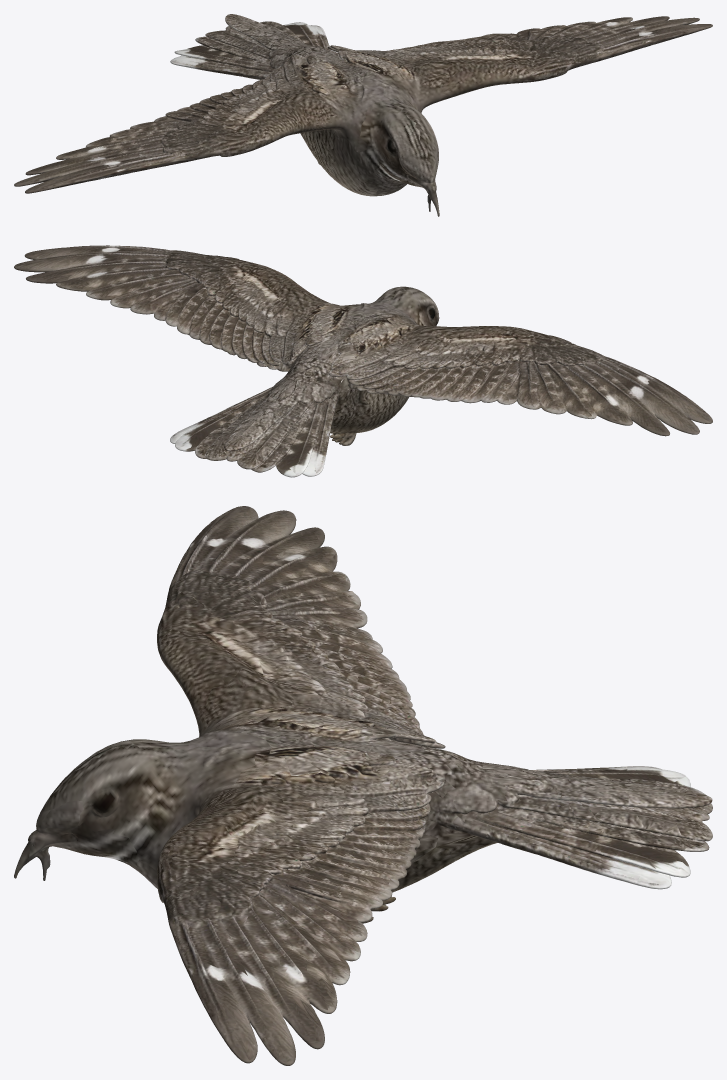
The model's file is Caprimulgus_europaeus.glb.
3 renders of one model, top to bottom at view 1: azimuth 30°, elevation 25°; view 2: azimuth 150°, elevation 25°; view 3: azimuth 270°, elevation 25°, orthographic. The views are drawn at different scales.
Parts seen in each view (by area): view 1: orient; view 2: orient; view 3: orient.
Boxes of the visible parts, box(x1,y1,x2,y2) form: orient: box(14, 14, 712, 216); orient: box(14, 245, 712, 477); orient: box(14, 506, 712, 1065).
Size of the model in its own units: 0.5 by 0.0761 by 0.2661.
Materials: 1 (1 with a texture image).
